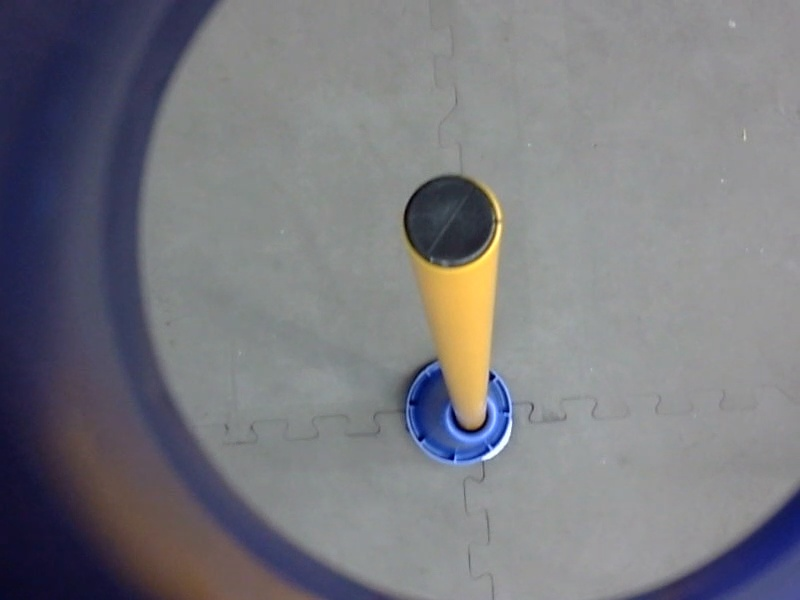tip: (394, 168, 509, 275)
